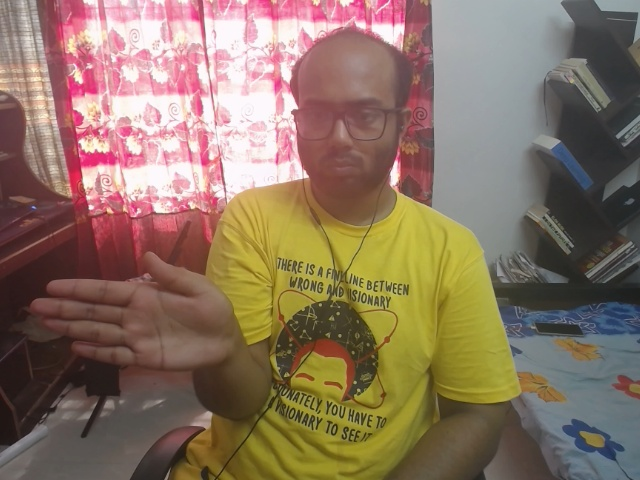south: (21, 244, 269, 378)
